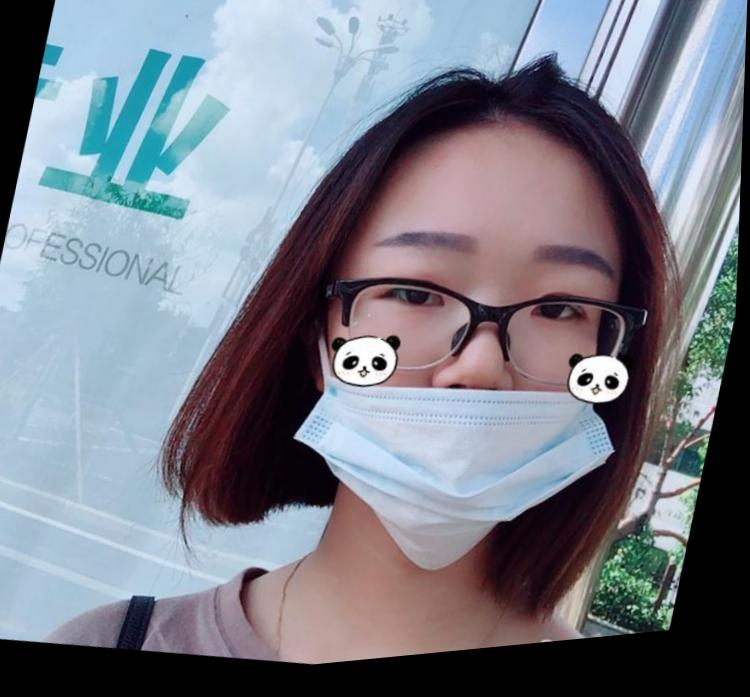WRONG: (281, 157, 652, 588)
